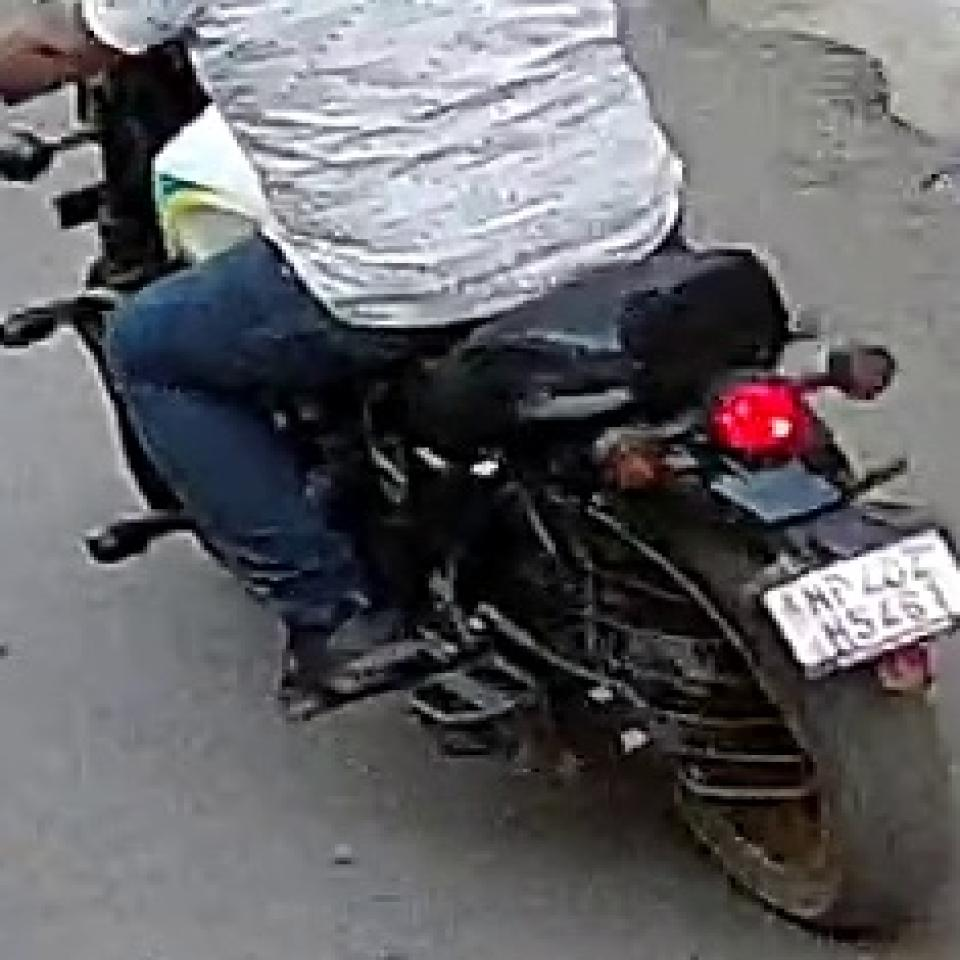tail_light: (708, 365, 804, 455)
